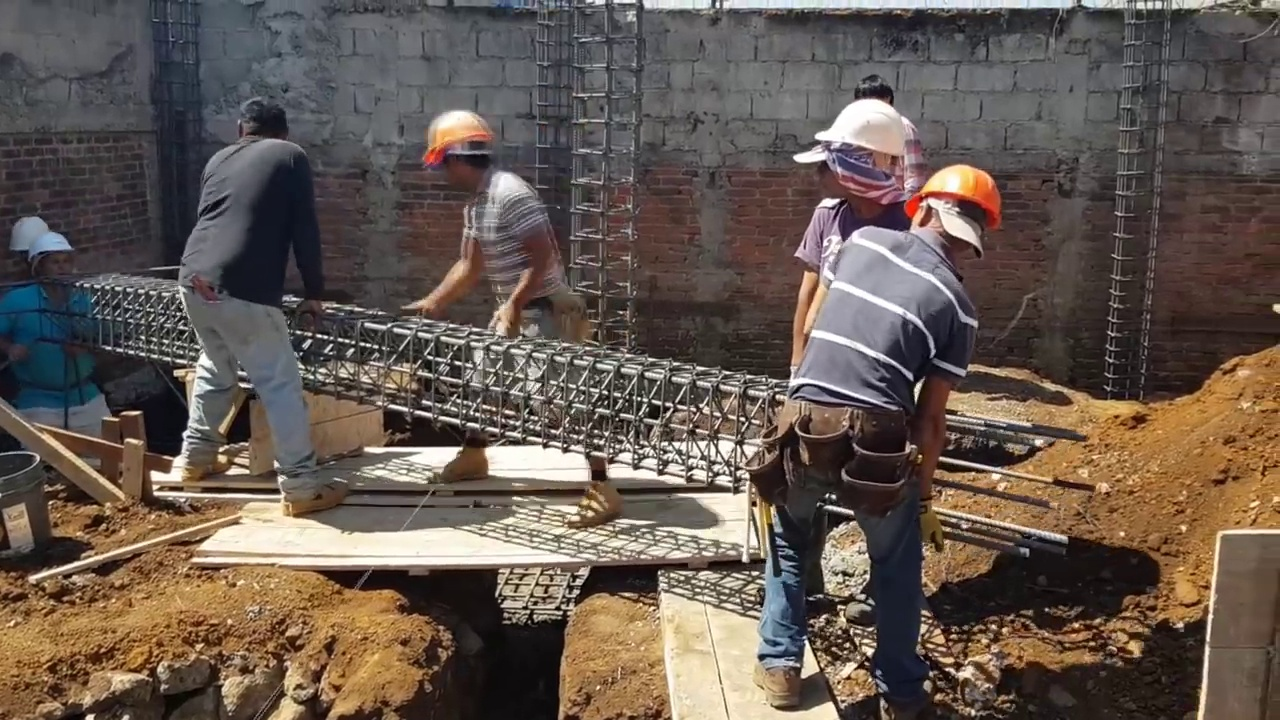helmet: (804, 104, 927, 166), (911, 164, 999, 234), (412, 106, 495, 176), (6, 214, 55, 258), (27, 235, 73, 262)
helmet-off: (229, 97, 284, 143), (849, 75, 889, 101)
helmet-on: (802, 102, 926, 213), (912, 148, 994, 279), (417, 109, 496, 200), (28, 235, 78, 303)
person: (746, 120, 1004, 718), (167, 94, 334, 534), (395, 119, 562, 451), (3, 209, 98, 480), (429, 420, 491, 500)
